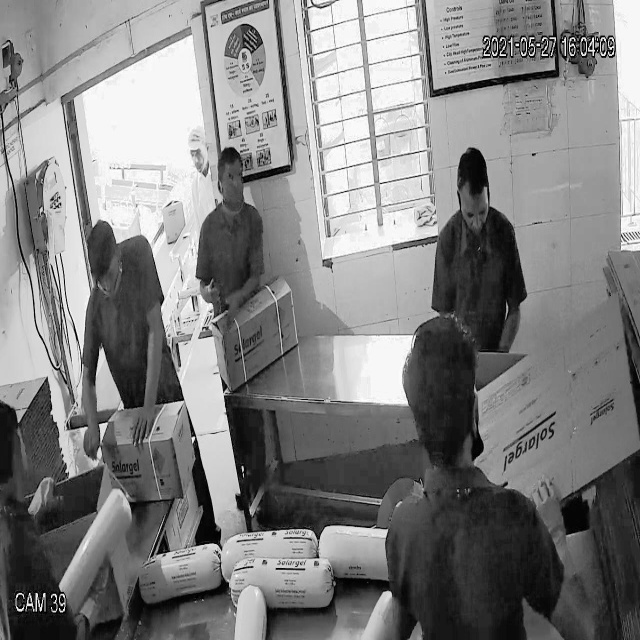Sin_gafas: (451, 193, 499, 228)
